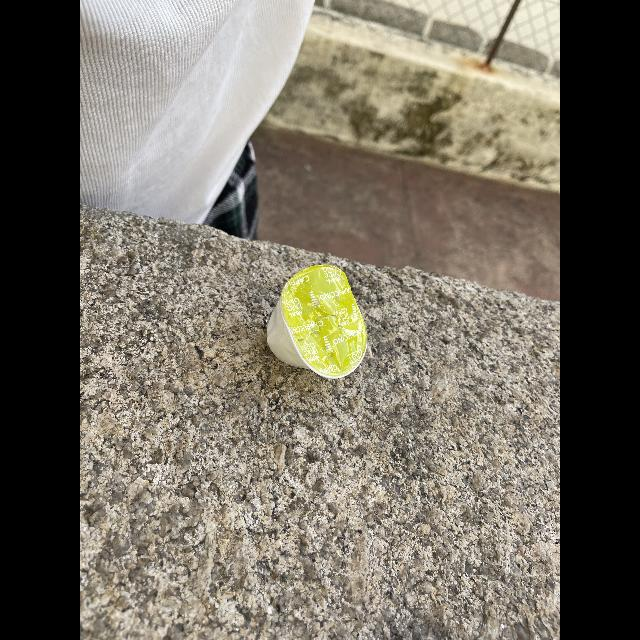damaged_capsule: (263, 256, 377, 389)
